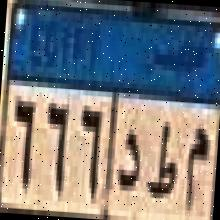6: (73, 98, 110, 196), (40, 98, 74, 198), (8, 94, 41, 195)
Taa: (146, 110, 183, 206)
daal: (113, 124, 146, 204)
meem: (180, 119, 212, 218)
